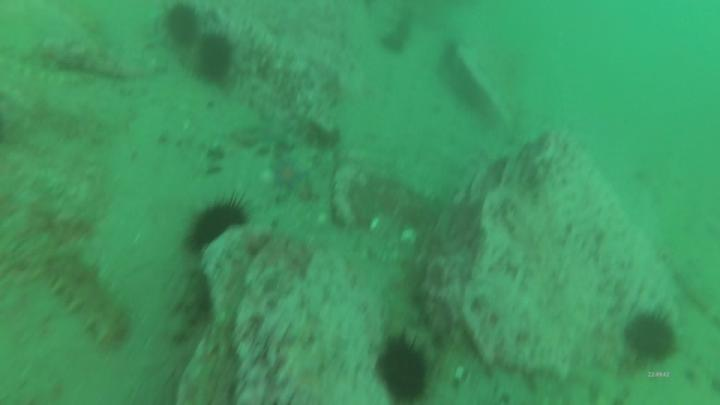echinus: (372, 331, 438, 405), (185, 193, 249, 262), (624, 310, 681, 369), (193, 31, 238, 85), (162, 1, 203, 51)
holothurian: (45, 252, 134, 347), (1, 53, 101, 91)
starfish: (266, 156, 310, 194)
